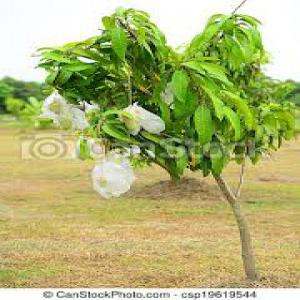Tree: (28, 3, 292, 278)
